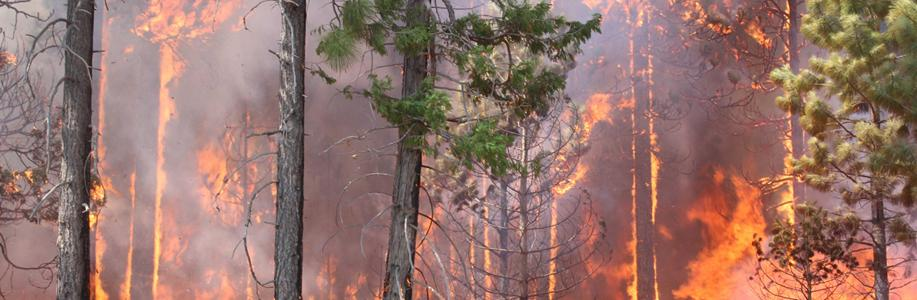Fire: (522, 5, 917, 300), (98, 1, 374, 300)
